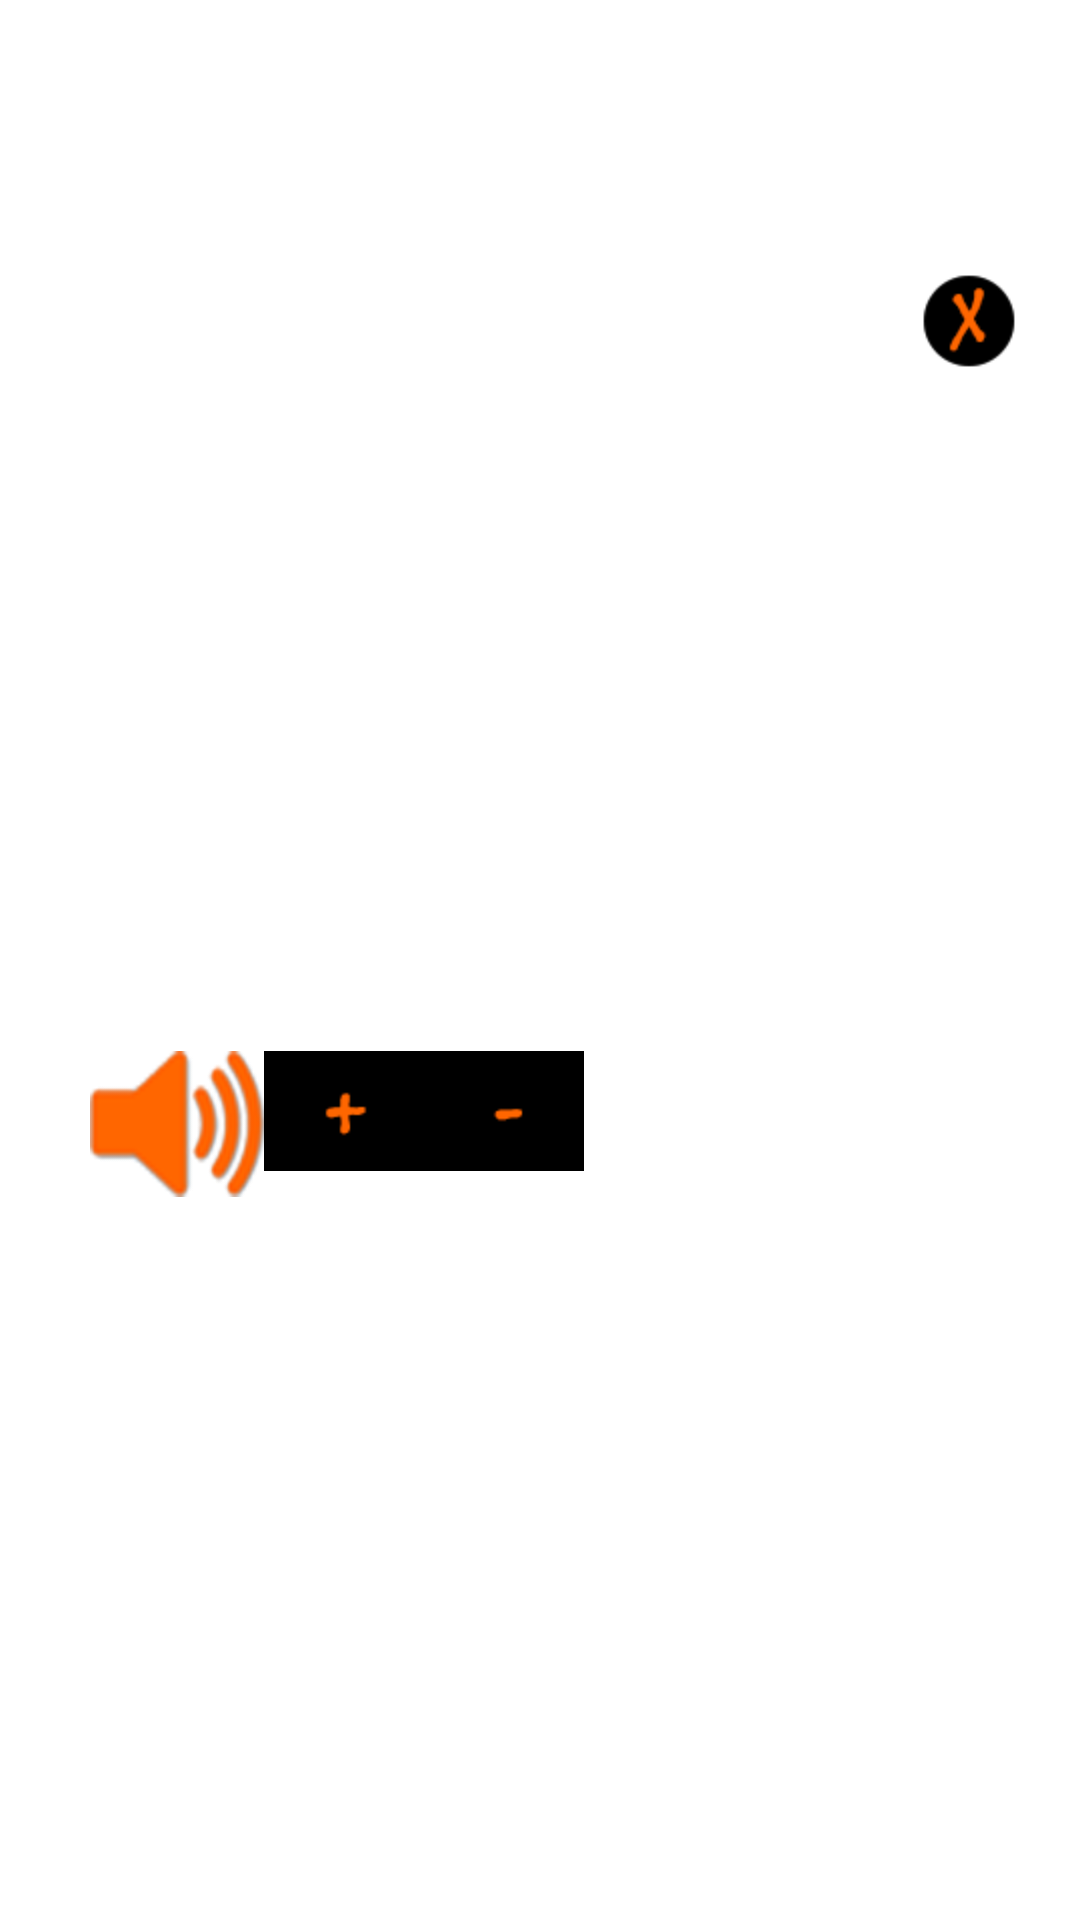

Locate icon controls on the screen. Image size 1080×1920, boxes as [x1, y1, x2, y2].
Close Button!: [923, 275, 1015, 367]
Minus Speech Speed Button!: [424, 1051, 584, 1171]
Play Slang Button!: [90, 1051, 242, 1197]
Plus Speech Speed Button!: [264, 1051, 424, 1171]
